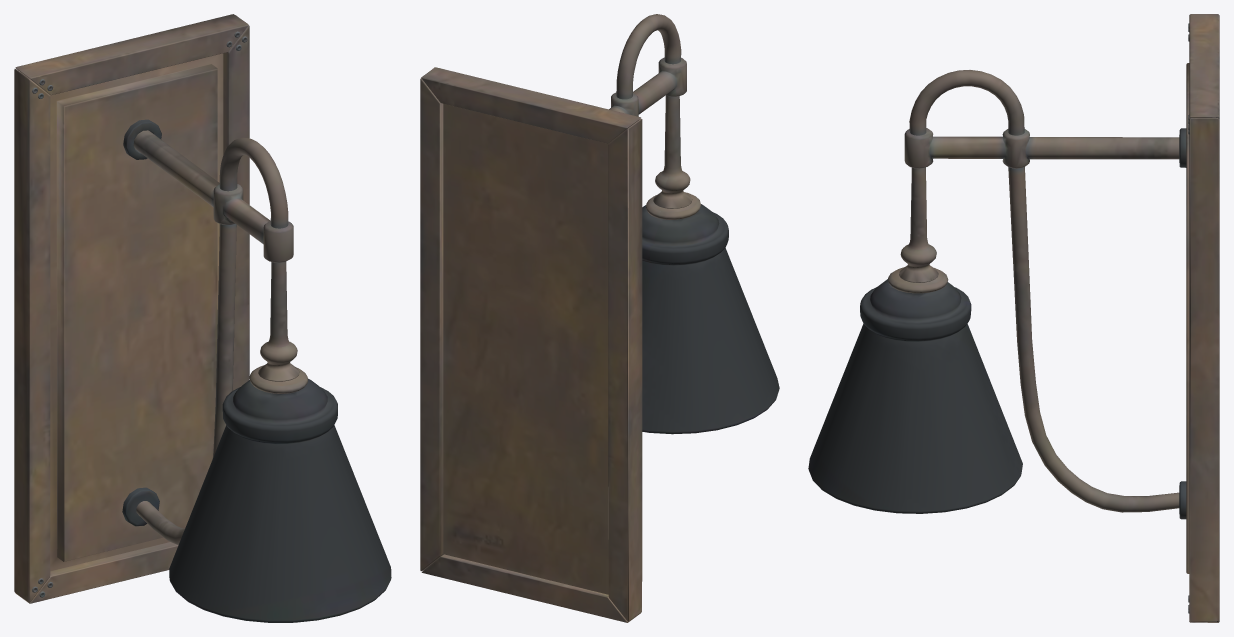
The model's file is wall_sconce.glb.
3 renders of one model, left to right at view 1: azimuth 30°, elevation 25°; view 2: azimuth 150°, elevation 25°; view 3: azimuth 270°, elevation 25°, orthographic. The views are drawn at different scales.
Visible parts, largest first — view 1: industrial_wall_sconce; view 2: industrial_wall_sconce; view 3: industrial_wall_sconce.
Boxes of the visible parts, <box> form: industrial_wall_sconce: <box>14,14,391,622</box>; industrial_wall_sconce: <box>420,14,779,622</box>; industrial_wall_sconce: <box>808,14,1219,622</box>.
Size of the model in its own units: 0.1503 by 0.3418 by 0.2516.
Materials: 2 (2 with a texture image).
